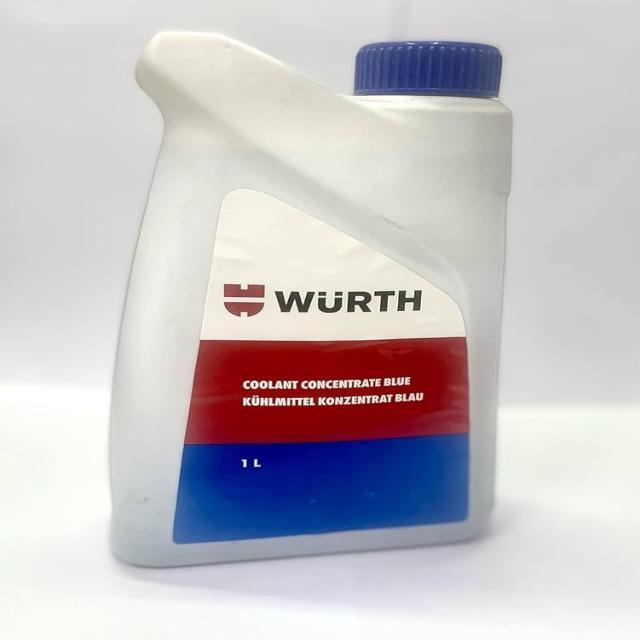coolant: (78, 27, 526, 576)
